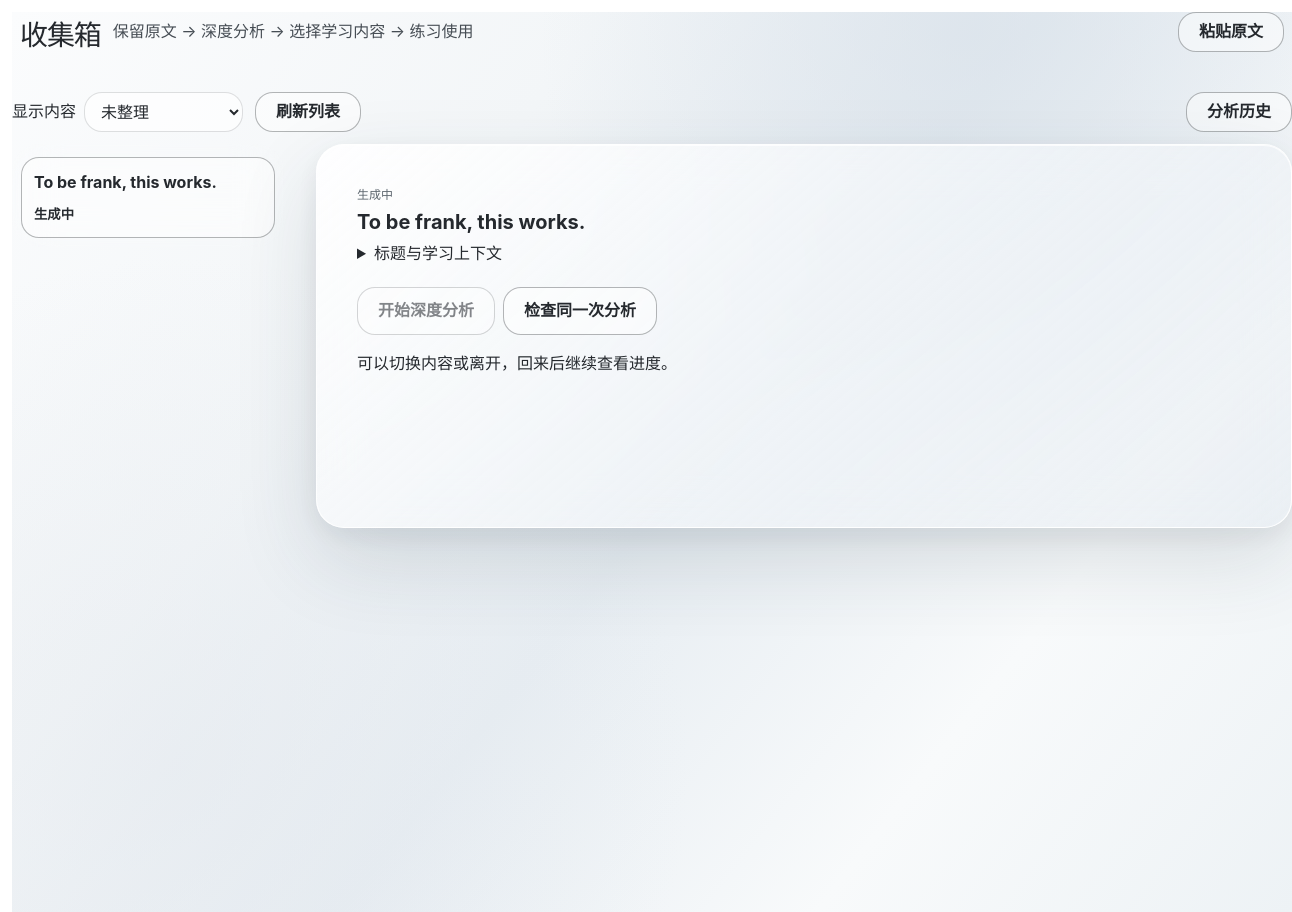
recovers a pre-task analysis in completed state without starting another generation
Expected: the button "开始深度分析" is disabled, [357,287,495,335]
Click the button "检查同一次分析" at x=580, y=311, box [503,287,657,335]
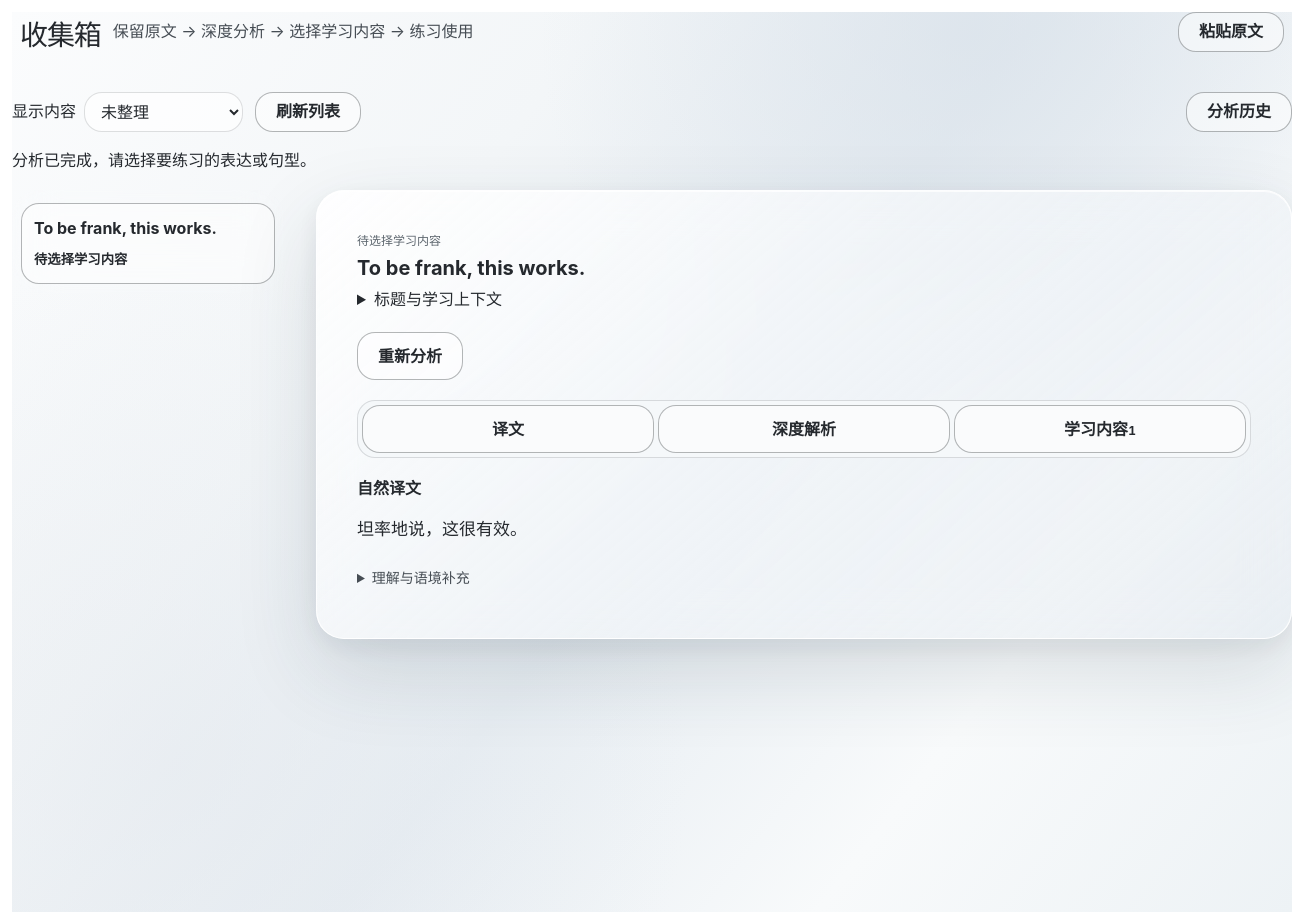
Expected: the text "To be frank, this works." is shown, [34,218,217,238]
Expected: the button "重新分析" is enabled, [357,332,463,380]
